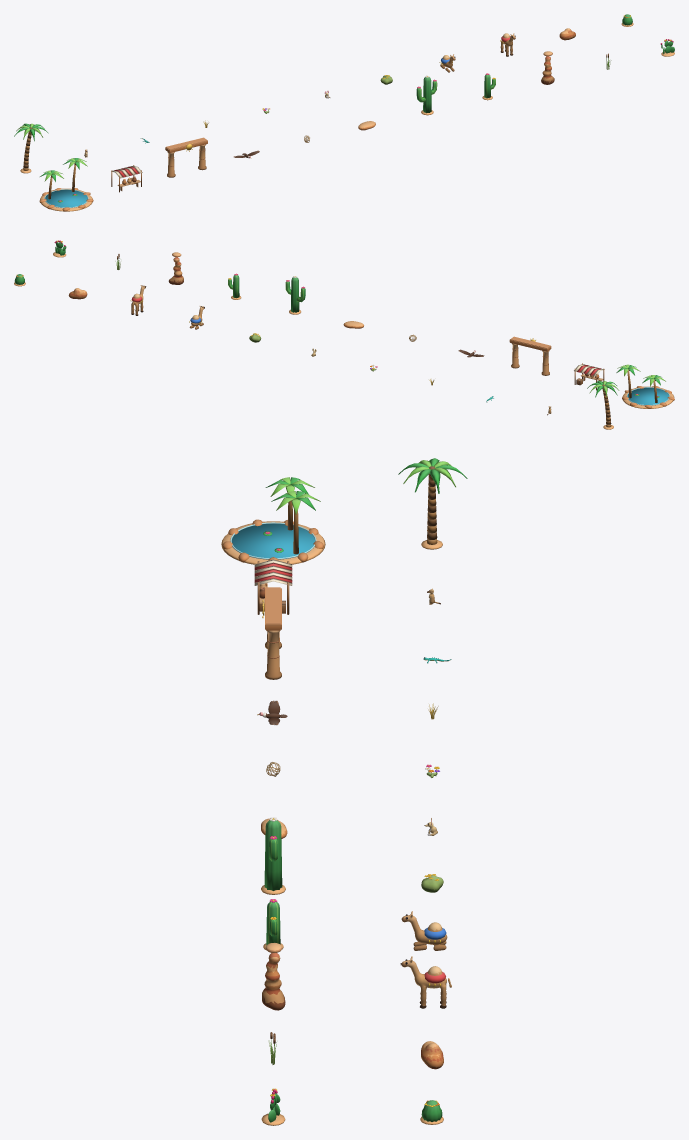
The model's file is Desert.fbx.
The picture shows the model from 3 angles, top to bottom: view 1: azimuth 30°, elevation 25°; view 2: azimuth 150°, elevation 25°; view 3: azimuth 270°, elevation 25°; orthographic projection. The views are drawn at different scales.
Parts seen in each view (by area): view 1: Desert_OasisGarden, Desert_SunArch, Desert_SaguaroTall, Desert_PalmTree, Desert_ShadeCaravan; view 2: Desert_OasisGarden, Desert_SunArch, Desert_SaguaroTall, Desert_PalmTree, Desert_ShadeCaravan; view 3: Desert_OasisGarden, Desert_PalmTree, Desert_SunArch, Desert_SaguaroTall, Desert_ShadeCaravan, Desert_RockPillar, Desert_Camel.
Part boxes in pixels (box(x1,y1,x2,y2)): Desert_OasisGarden: box(39, 158, 93, 211); Desert_SunArch: box(165, 137, 207, 177); Desert_SaguaroTall: box(416, 75, 437, 115); Desert_PalmTree: box(14, 123, 48, 173); Desert_ShadeCaravan: box(111, 165, 142, 192); Desert_OasisGarden: box(616, 364, 674, 408); Desert_SunArch: box(509, 336, 551, 375); Desert_SaguaroTall: box(285, 276, 305, 314); Desert_PalmTree: box(587, 381, 619, 429); Desert_ShadeCaravan: box(574, 363, 604, 390); Desert_OasisGarden: box(221, 477, 325, 564); Desert_PalmTree: box(398, 458, 467, 549); Desert_SunArch: box(262, 587, 281, 679); Desert_SaguaroTall: box(261, 817, 285, 894); Desert_ShadeCaravan: box(254, 559, 292, 614); Desert_RockPillar: box(262, 942, 285, 1010); Desert_Camel: box(400, 956, 451, 1008).
Bounding box in the file's own units: 252 × 16.78 × 43.48.
1 material, 1 textured.
